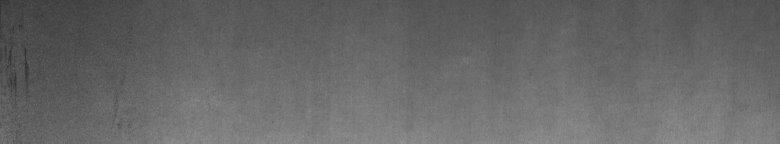ka: (4, 24, 32, 104)
